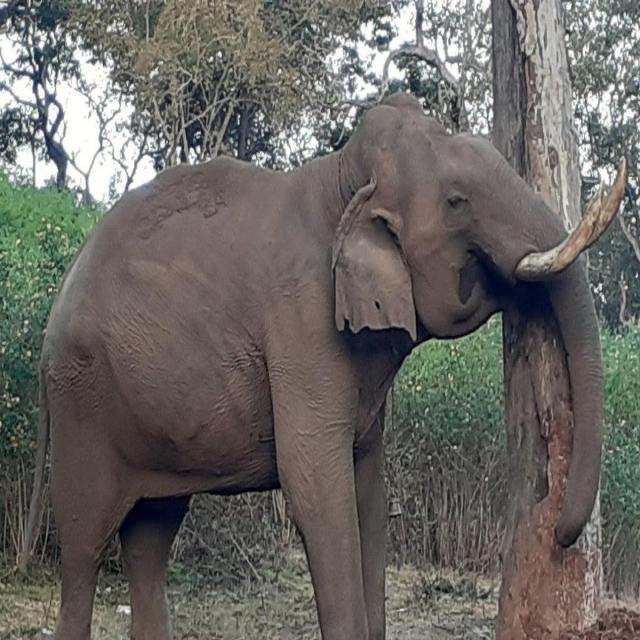Elephant: (22, 86, 624, 640)
